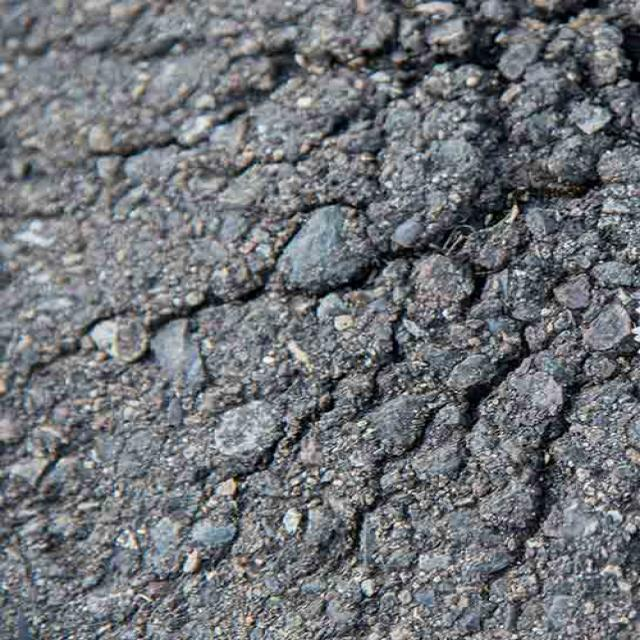Drain Hole: (270, 39, 640, 476)
